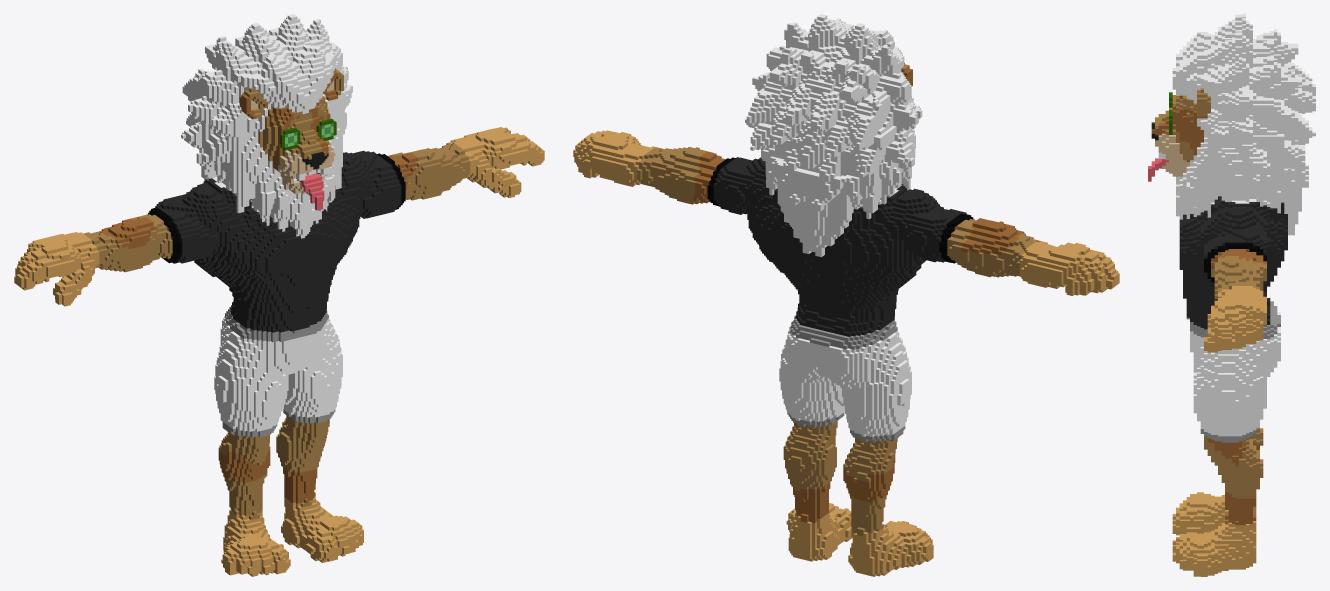
File: 104-F5FLFCzZ.glb
3 views of the same model, side by side, from view 1: azimuth 30°, elevation 25°; view 2: azimuth 150°, elevation 25°; view 3: azimuth 270°, elevation 25° (orthographic). The views are drawn at different scales.
Parts seen in each view (by area): view 1: tongue_out; view 2: tongue_out; view 3: tongue_out.
Boxes of the visible parts, x1,y1,x2,y2 form: tongue_out: (14,14,544,576); tongue_out: (573,14,1119,576); tongue_out: (1148,14,1315,576).
Size of the model in its own units: 17.2 by 16.5 by 4.8.
5 materials, 5 textured.
